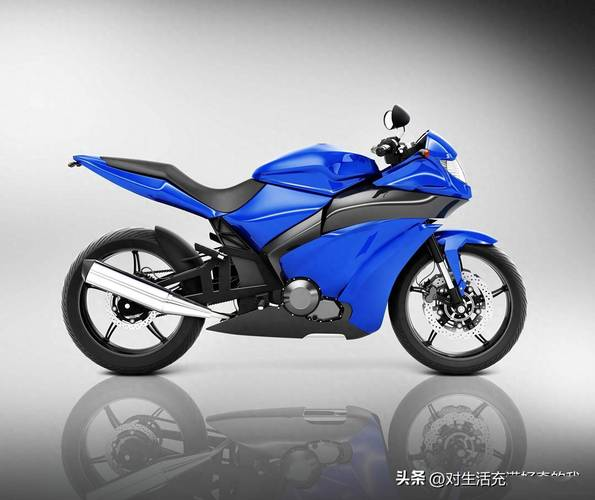摩托车: (39, 101, 542, 401)
